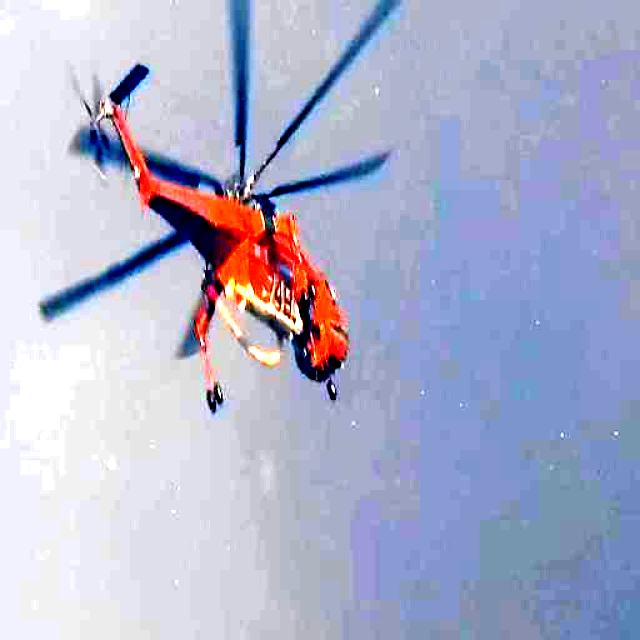drone: (24, 0, 472, 446)
